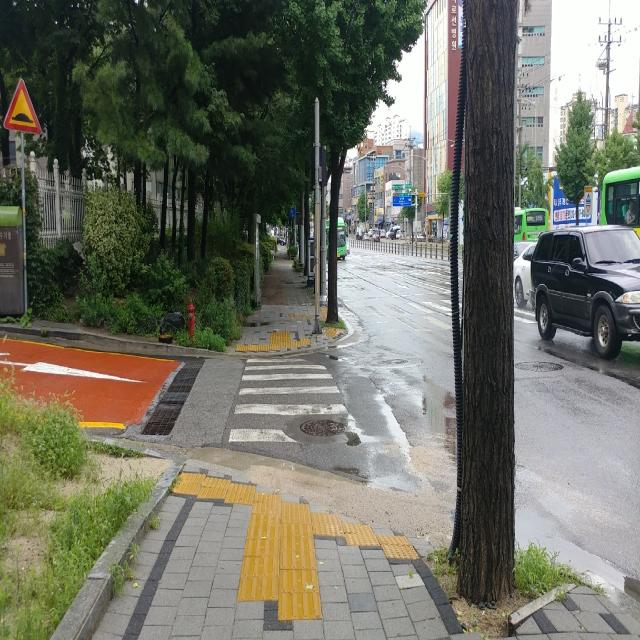횡단보도: (228, 355, 349, 444)
